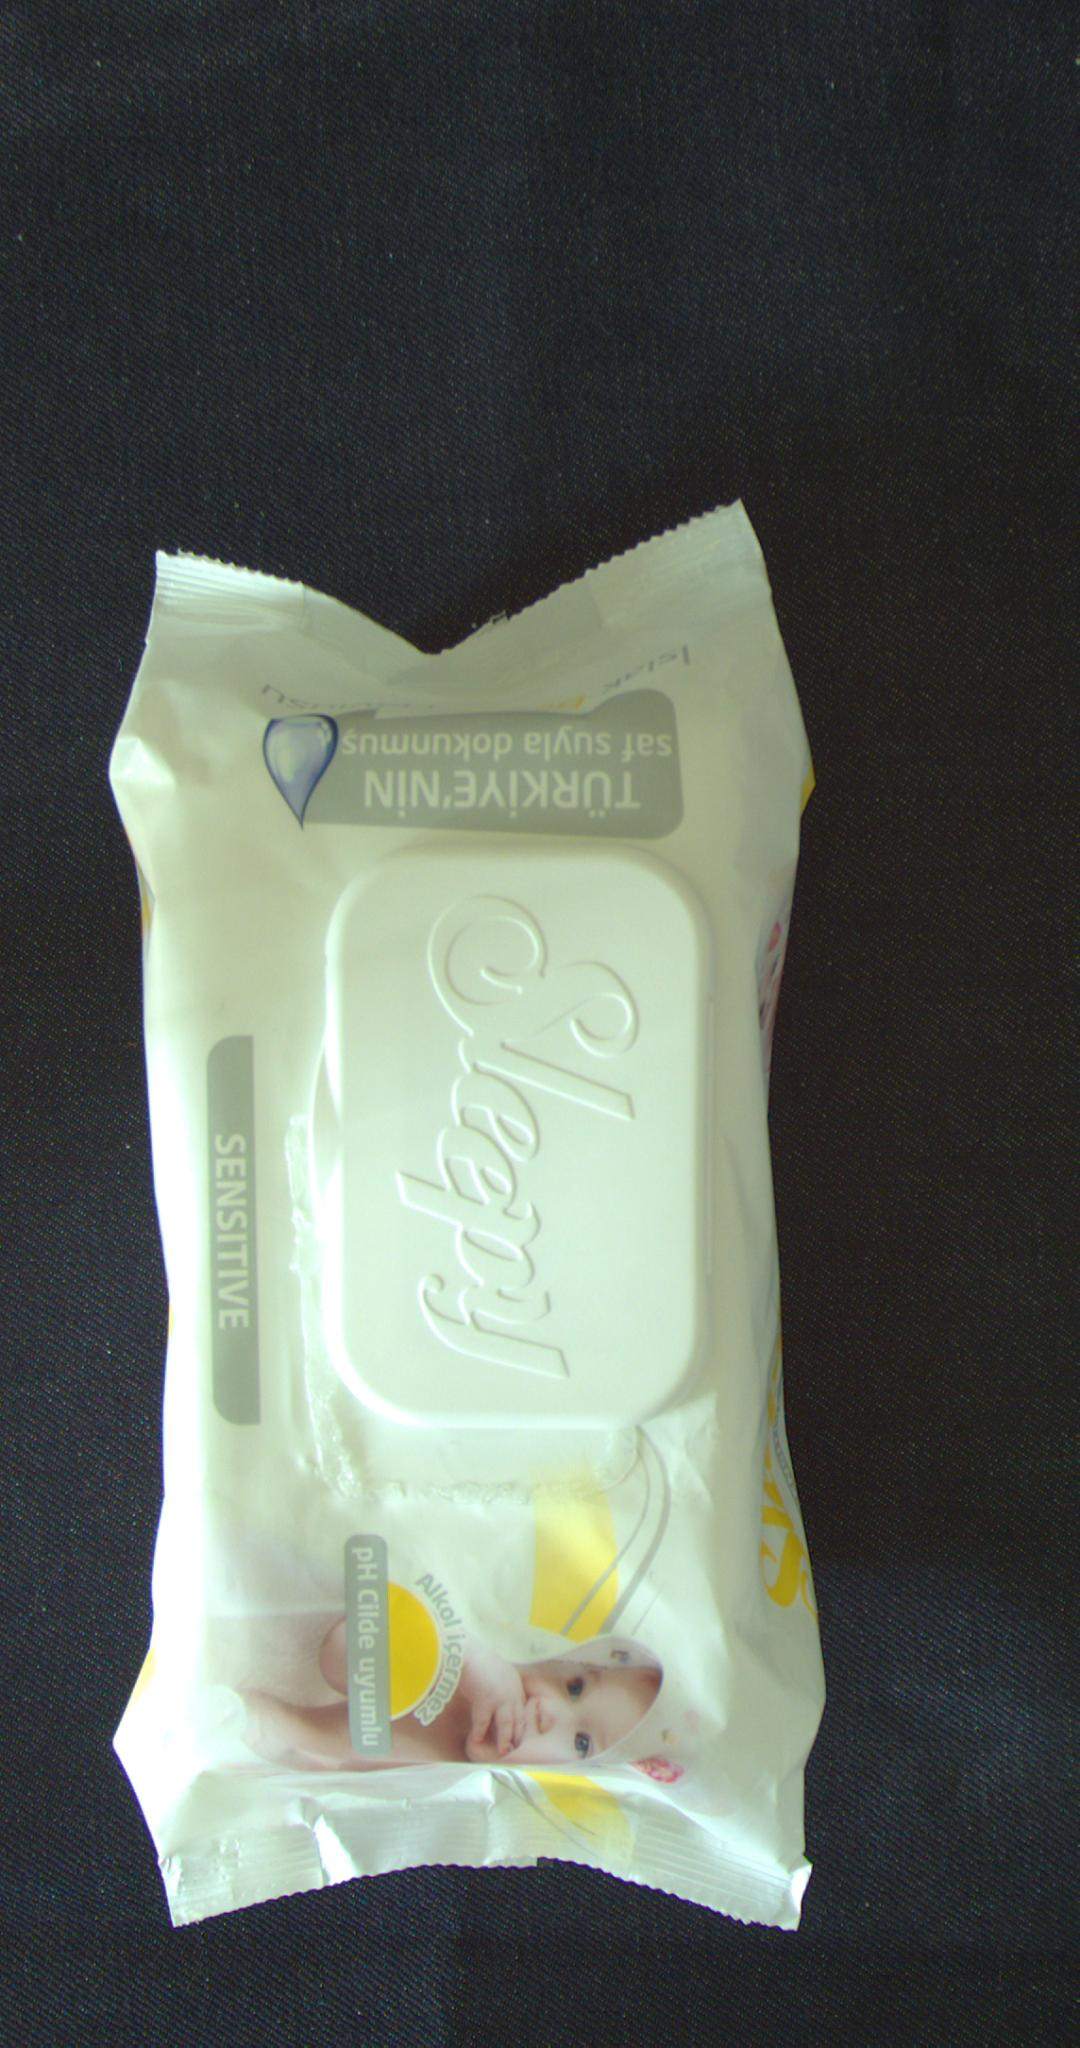kapak: (321, 845, 702, 1425)
